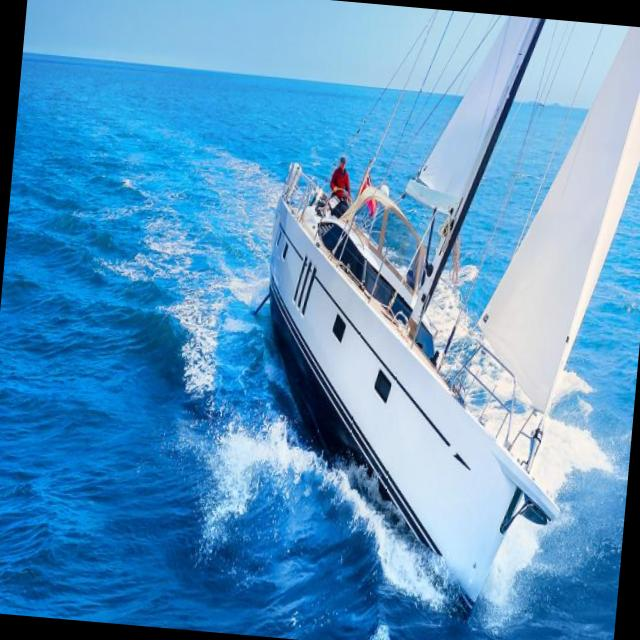boat: (230, 0, 640, 632)
